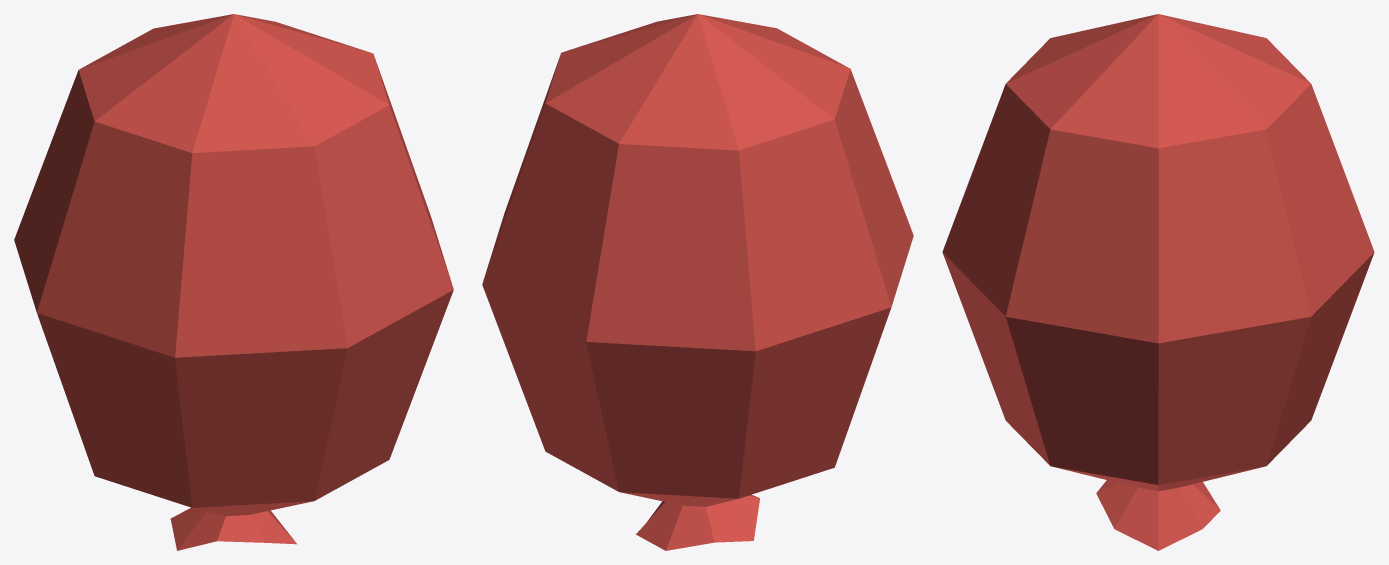
The model's file is small balloon.fbx.
3 renders of one model, left to right at view 1: azimuth 30°, elevation 25°; view 2: azimuth 150°, elevation 25°; view 3: azimuth 270°, elevation 25°, orthographic. The views are drawn at different scales.
Visible parts, largest first — view 1: Sphere.002; view 2: Sphere.002; view 3: Sphere.002.
Boxes of the visible parts, x1,y1,x2,y2 form: Sphere.002: [14, 14, 453, 550]; Sphere.002: [482, 14, 913, 550]; Sphere.002: [942, 14, 1374, 550].
Bounding box in the file's own units: 200 × 261 × 200.
